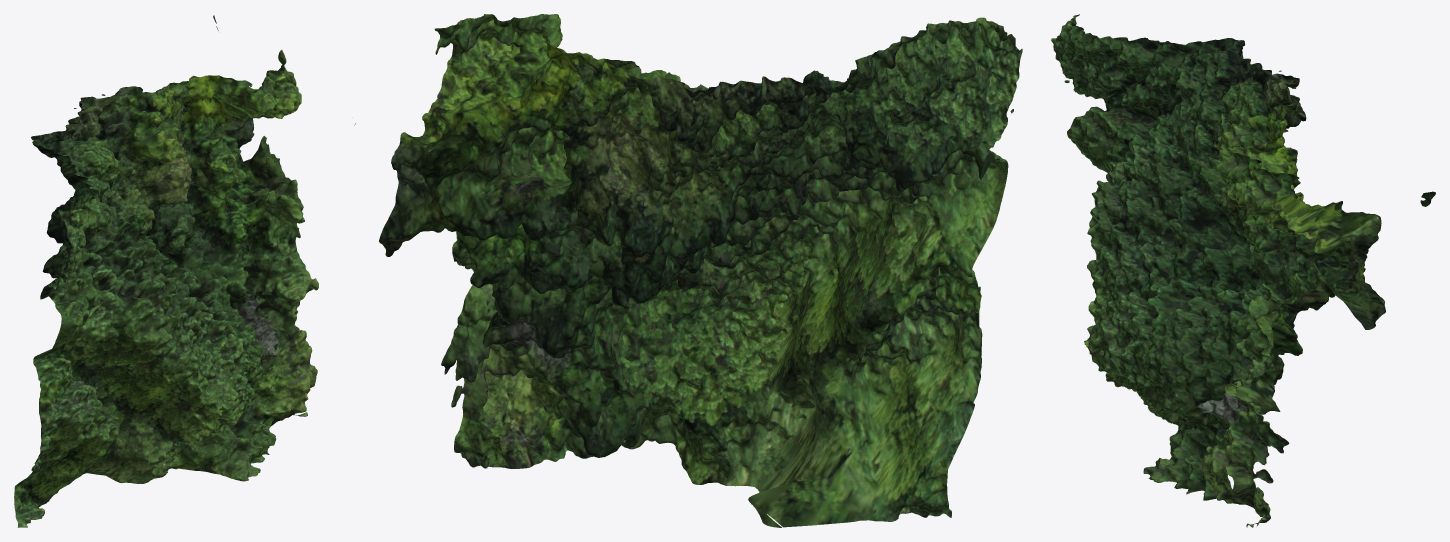
Rendered from Tile_+005_+005.fbx.
3 renders of one model, left to right at view 1: azimuth 30°, elevation 25°; view 2: azimuth 150°, elevation 25°; view 3: azimuth 270°, elevation 25°, orthographic. The views are drawn at different scales.
Parts seen in each view (by area): view 1: DefaultName; view 2: DefaultName; view 3: DefaultName.
Part boxes in pixels (x1,y1,x2,y2): DefaultName: (14,15,318,527); DefaultName: (354,14,1022,527); DefaultName: (1051,14,1435,527).
Bounding box in the file's own units: 22.54 × 22.54 × 22.43.
